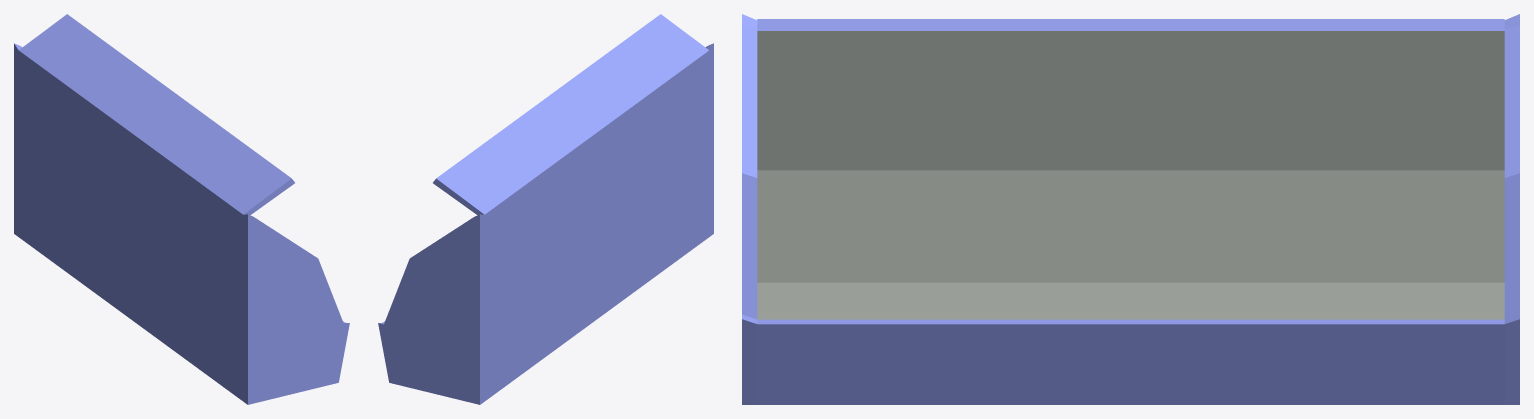
The model's file is shopShelf3.fbx.
3 views of the same model, side by side, from view 1: azimuth 30°, elevation 25°; view 2: azimuth 150°, elevation 25°; view 3: azimuth 270°, elevation 25° (orthographic). The views are drawn at different scales.
Parts seen in each view (by area): view 1: freezer.001; view 2: freezer.001; view 3: freezer.001.
Part boxes in pixels (bbox=[...]): freezer.001: bbox=[14, 14, 349, 404]; freezer.001: bbox=[378, 14, 713, 404]; freezer.001: bbox=[742, 14, 1519, 404].
Size of the model in its own units: 0.2883 by 0.5707 by 1.14.
